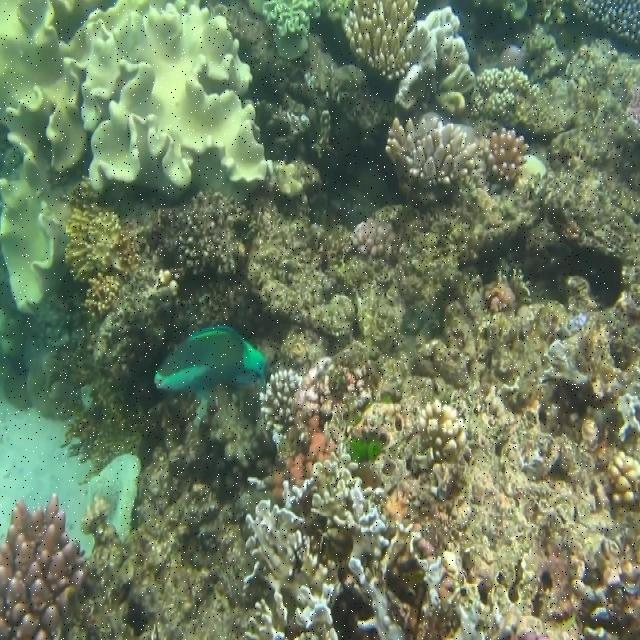fish: (155, 325, 268, 392)
reefs: (243, 345, 548, 638), (0, 0, 267, 316), (1, 175, 260, 483), (350, 65, 547, 259), (498, 0, 639, 191), (250, 0, 476, 115), (1, 392, 141, 558), (0, 494, 88, 638), (417, 401, 467, 464), (606, 451, 639, 505)
